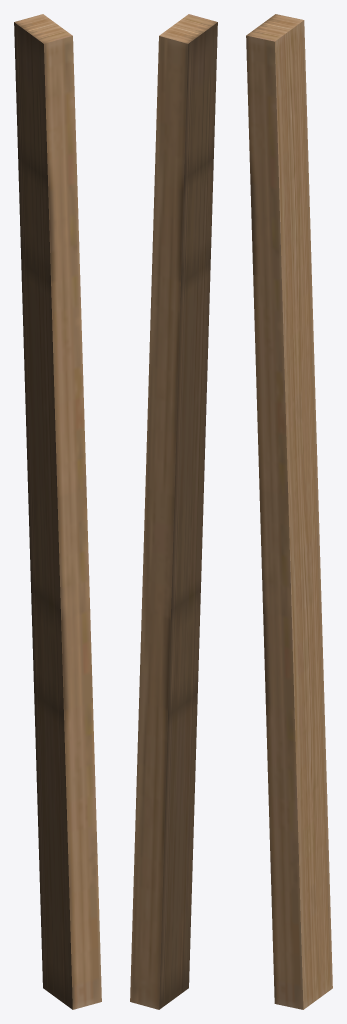
The model's file is Map_Furniture_103.fbx.
3 renders of one model, left to right at view 1: azimuth 30°, elevation 25°; view 2: azimuth 150°, elevation 25°; view 3: azimuth 330°, elevation 25°, orthographic.
Parts seen in each view (by area): view 1: Map_Furniture_103; view 2: Map_Furniture_103; view 3: Map_Furniture_103.
Part boxes in pixels (bbox=[...]): Map_Furniture_103: bbox=[14, 14, 101, 1009]; Map_Furniture_103: bbox=[130, 14, 217, 1009]; Map_Furniture_103: bbox=[246, 14, 332, 1009].
Size of the model in its own units: 0.2246 by 3.6 by 0.2.
